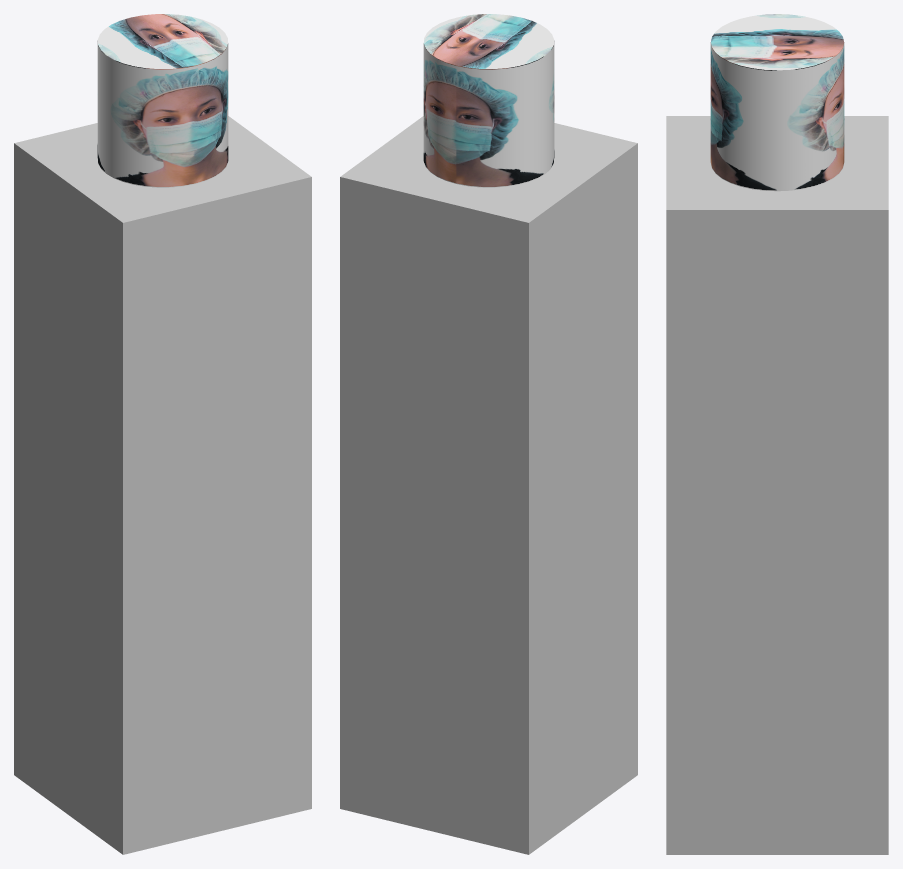
File: Person1.dae
The picture shows the model from 3 angles, left to right: view 1: azimuth 30°, elevation 25°; view 2: azimuth 150°, elevation 25°; view 3: azimuth 270°, elevation 25°; orthographic projection. The views are drawn at different scales.
Parts seen in each view (by area): view 1: 立方体, 柱体; view 2: 立方体, 柱体; view 3: 立方体, 柱体.
Part boxes in pixels (box(x1,y1,x2,y2)): 立方体: box(14, 116, 311, 854); 柱体: box(97, 14, 228, 187); 立方体: box(340, 116, 637, 854); 柱体: box(423, 14, 554, 187); 立方体: box(666, 116, 888, 854); 柱体: box(710, 14, 844, 191).
Bounding box in the file's own units: 0.5 × 0.5 × 1.9.
Materials: 1 (1 with a texture image).
